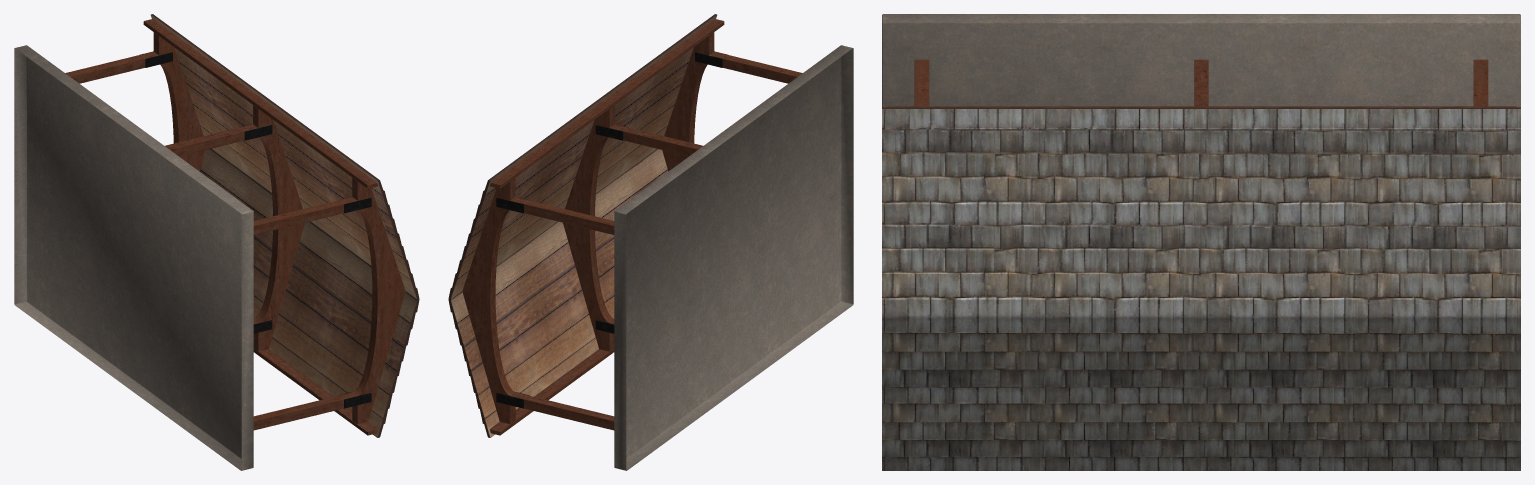
File: cP_Pavilion.dae
3 views of the same model, side by side, from view 1: azimuth 30°, elevation 25°; view 2: azimuth 150°, elevation 25°; view 3: azimuth 270°, elevation 25° (orthographic). The views are drawn at different scales.
Visible parts, largest first — view 1: cP_Pavilion.001; view 2: cP_Pavilion.001; view 3: cP_Pavilion.001.
Part boxes in pixels (bbox=[...]): cP_Pavilion.001: bbox=[14, 14, 419, 470]; cP_Pavilion.001: bbox=[448, 14, 853, 470]; cP_Pavilion.001: bbox=[882, 14, 1520, 470].
Bounding box in the file's own units: 5.91 × 13.05 × 8.16.
